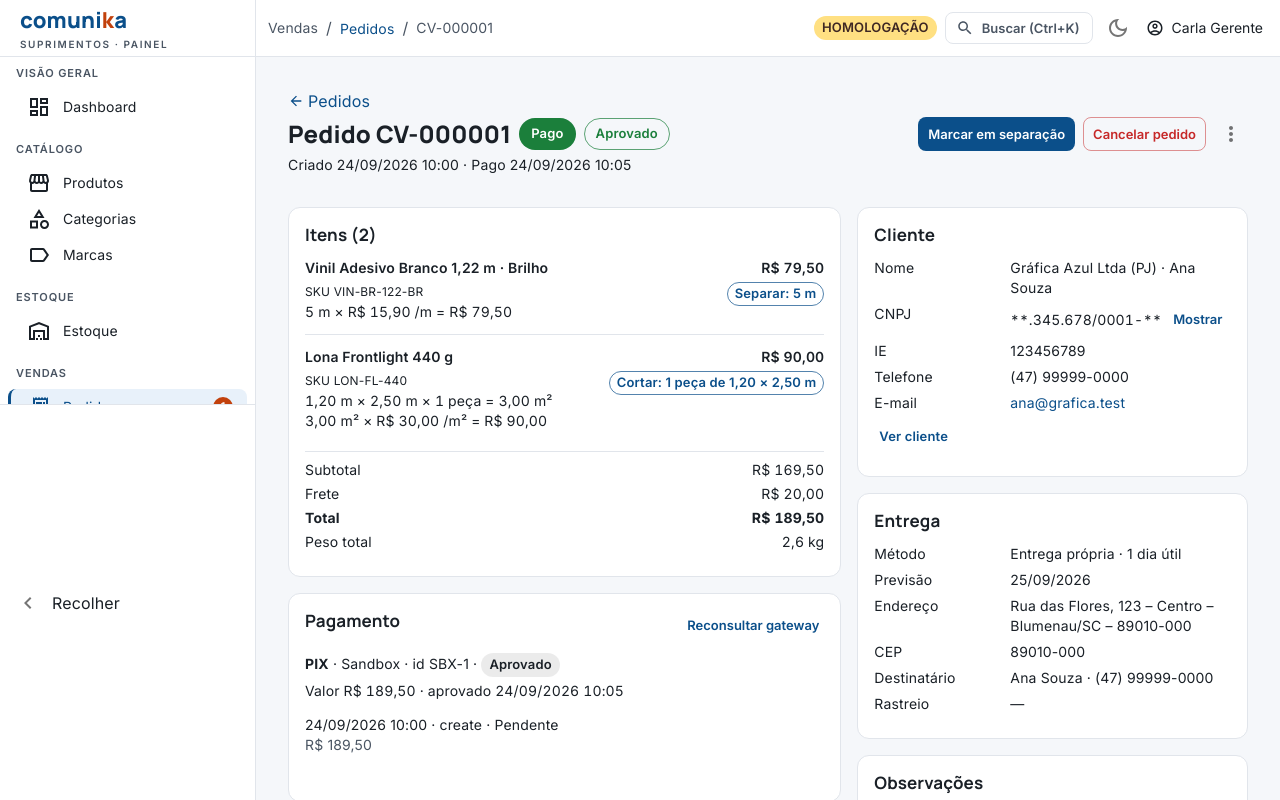
Scenario: Detalhe do pedido › 409 invalid_status_transition avisa e recarrega
The image size is (1280, 800).
Click the button "Marcar em separação" at coordinates (997, 134), box [918,117,1075,151]
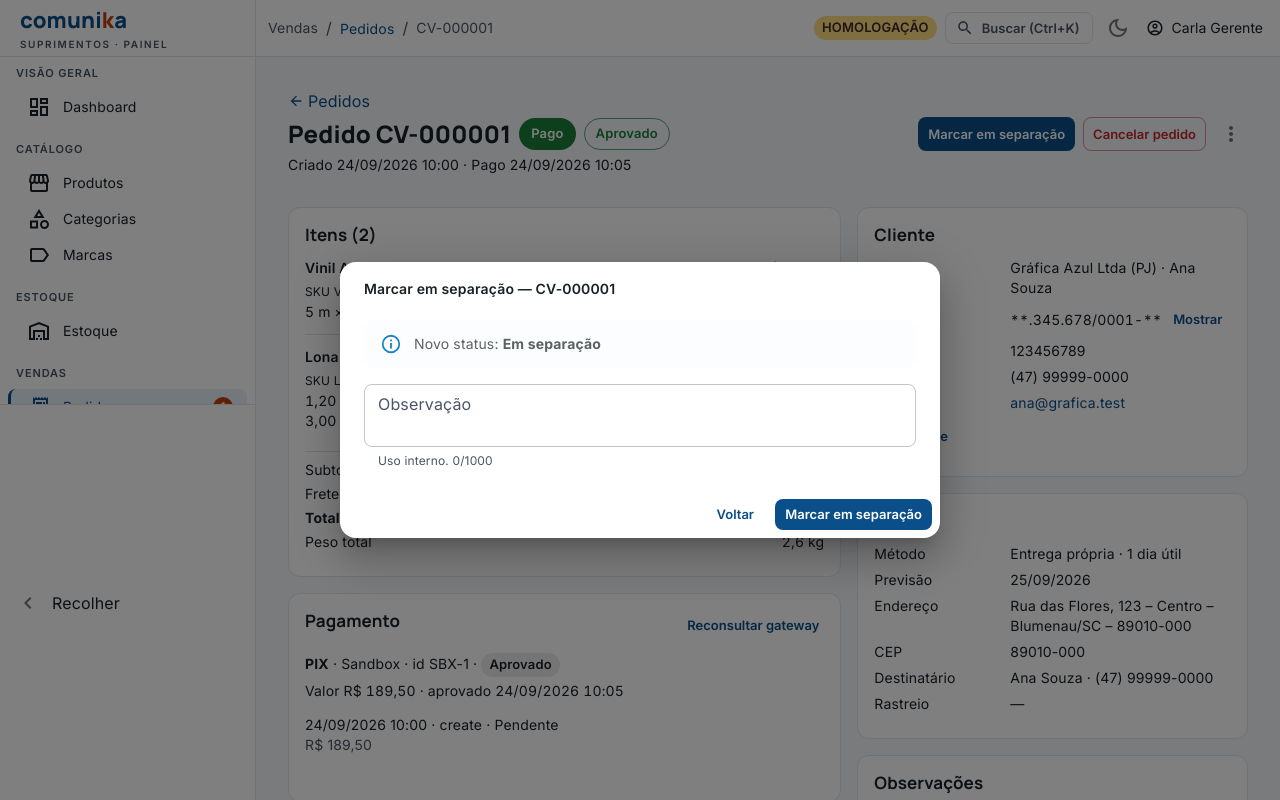
Click the button "Marcar em separação" at coordinates (854, 515), box [775,499,932,530]
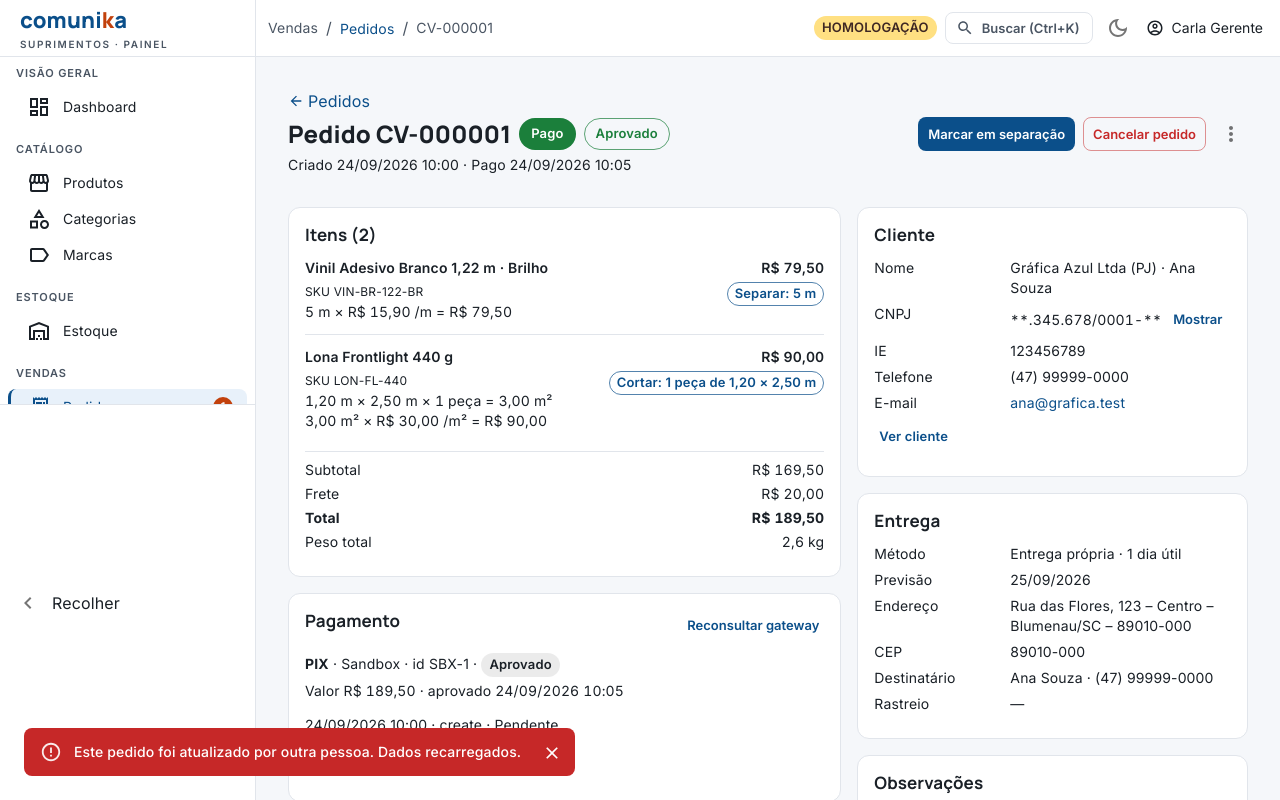
Now the text "atualizado por outra pessoa" is shown, box [74,743,521,760]
